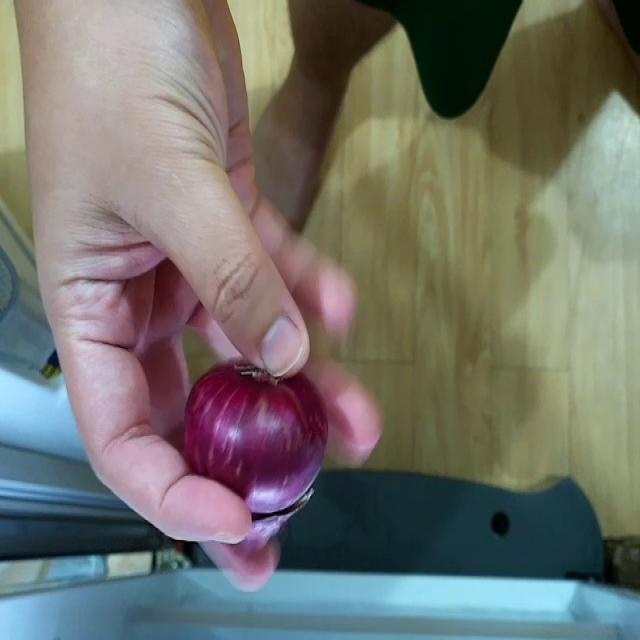onion: (186, 358, 334, 516)
